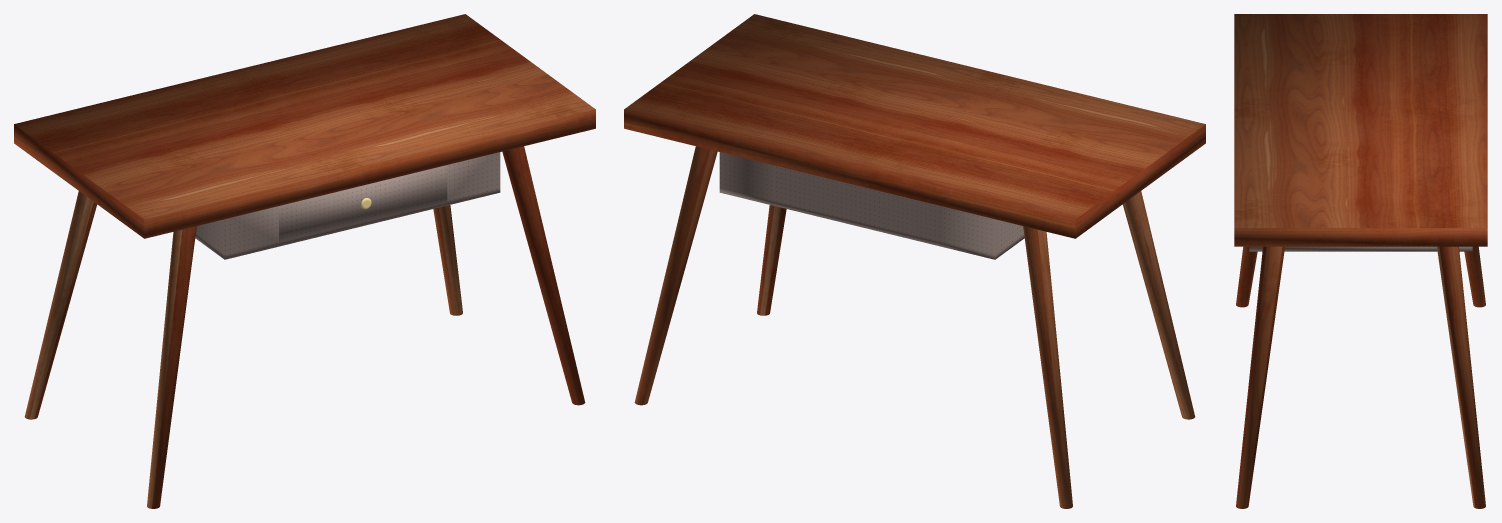
Rendered from desk.gltf.
3 views of the same model, side by side, from view 1: azimuth 30°, elevation 25°; view 2: azimuth 150°, elevation 25°; view 3: azimuth 270°, elevation 25° (orthographic). The views are drawn at different scales.
Visible parts, largest first — view 1: table_lp; view 2: table_lp; view 3: table_lp.
Part boxes in pixels (left/top/right/bottom): table_lp: left=14, top=14, right=595, bottom=508; table_lp: left=624, top=14, right=1205, bottom=508; table_lp: left=1234, top=14, right=1487, bottom=508.
Bounding box in the file's own units: 122 × 75.64 × 61.
1 material, 1 textured.
